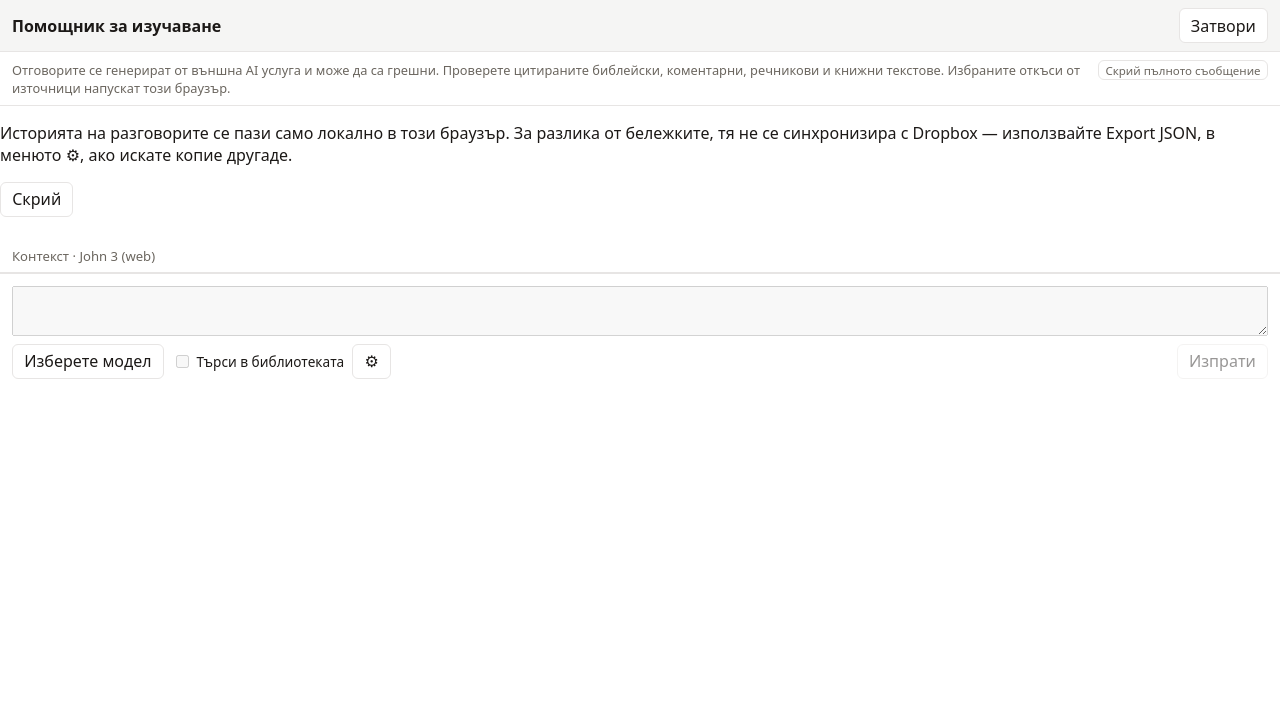
Test: ChatPanel › renders in Bulgarian when the UI language is Bulgarian
Expected: the heading "Помощник за изучаване" is shown, [12,15,221,37]
Expected: the text "Отговорите се генерират от външна AI услуга" is shown, [12,61,1080,97]
Step 1. Click the button with class "chat-model-chip" → [88, 361], box [12,344,164,379]
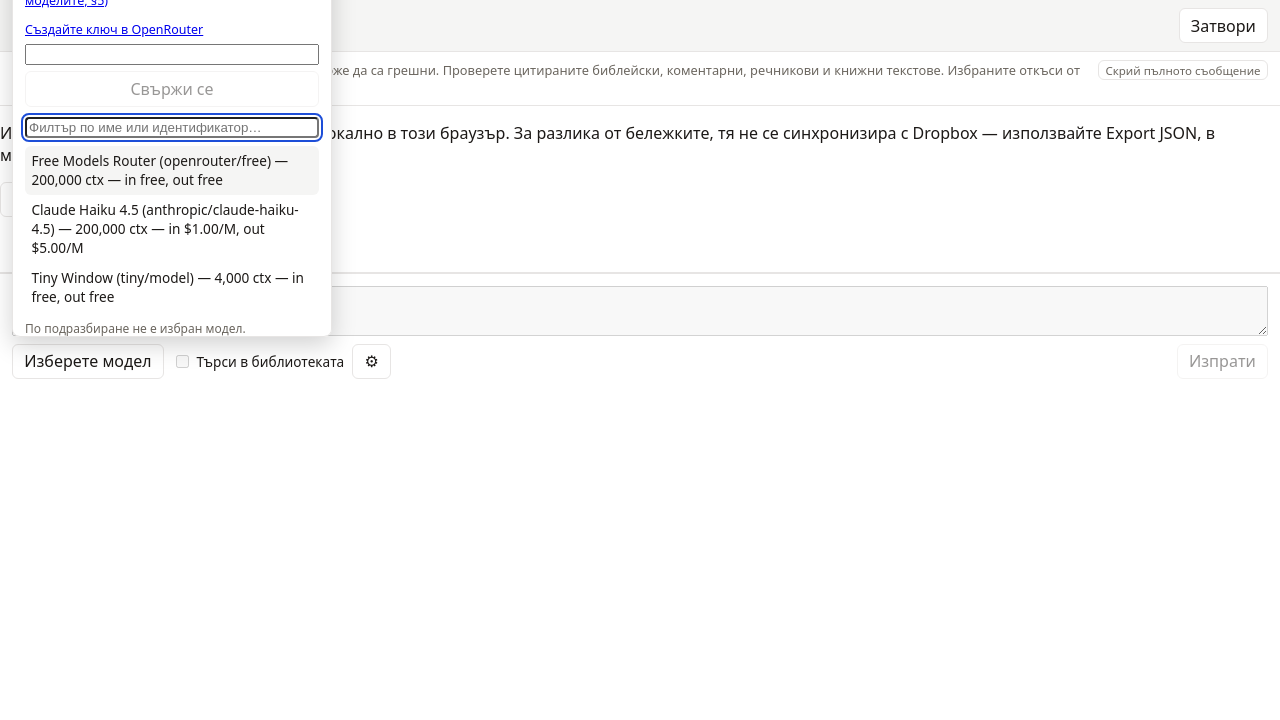
Result: the option "Free Models Router" is shown at [25,146,319,195]
